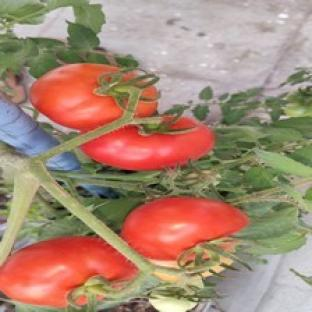Tomato: (0, 237, 136, 307), (122, 198, 249, 260), (81, 117, 214, 169), (30, 63, 123, 130), (150, 290, 197, 311), (285, 87, 311, 116), (201, 257, 232, 277)
